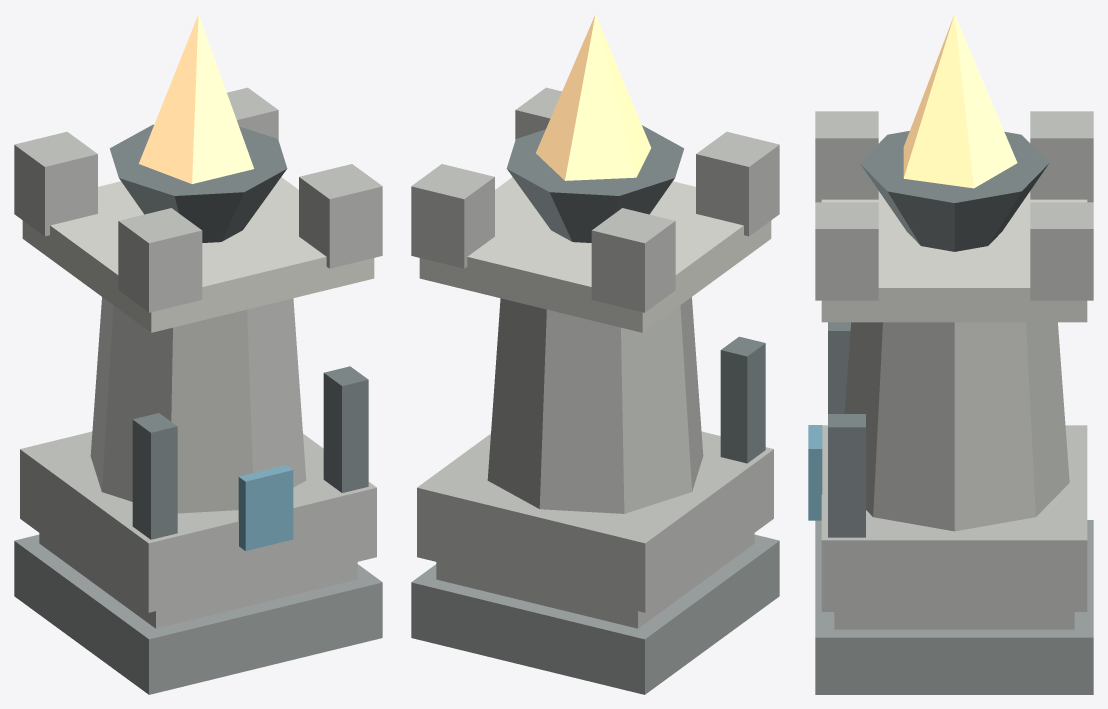
Rendered from human_fire_t3.glb.
The picture shows the model from 3 angles, left to right: view 1: azimuth 30°, elevation 25°; view 2: azimuth 150°, elevation 25°; view 3: azimuth 270°, elevation 25°; orthographic projection. The views are drawn at different scales.
Parts seen in each view (by area): view 1: human_fire_t3_MAT_stone, human_fire_t3_MAT_dark, human_fire_t3_MAT_iron, human_fire_t3_MAT_light, human_fire_t3_MAT_fire, human_fire_t3_MAT_blue; view 2: human_fire_t3_MAT_stone, human_fire_t3_MAT_dark, human_fire_t3_MAT_light, human_fire_t3_MAT_iron, human_fire_t3_MAT_fire; view 3: human_fire_t3_MAT_stone, human_fire_t3_MAT_dark, human_fire_t3_MAT_iron, human_fire_t3_MAT_light, human_fire_t3_MAT_fire, human_fire_t3_MAT_blue.
Part boxes in pixels (<box>): human_fire_t3_MAT_stone: <box>14,87,382,628</box>; human_fire_t3_MAT_dark: <box>14,534,382,694</box>; human_fire_t3_MAT_iron: <box>109,124,368,539</box>; human_fire_t3_MAT_light: <box>22,177,374,332</box>; human_fire_t3_MAT_fire: <box>139,14,253,183</box>; human_fire_t3_MAT_blue: <box>238,465,293,550</box>; human_fire_t3_MAT_stone: <box>411,87,779,628</box>; human_fire_t3_MAT_dark: <box>411,534,779,694</box>; human_fire_t3_MAT_light: <box>419,177,771,332</box>; human_fire_t3_MAT_iron: <box>506,125,765,463</box>; human_fire_t3_MAT_fire: <box>536,14,650,180</box>; human_fire_t3_MAT_stone: <box>815,111,1093,629</box>; human_fire_t3_MAT_dark: <box>815,520,1093,694</box>; human_fire_t3_MAT_iron: <box>828,131,1049,537</box>; human_fire_t3_MAT_light: <box>821,191,1087,322</box>; human_fire_t3_MAT_fire: <box>903,14,1017,188</box>; human_fire_t3_MAT_blue: <box>808,425,822,520</box>.
Size of the model in its own units: 0.88 by 2.17 by 0.9025.
